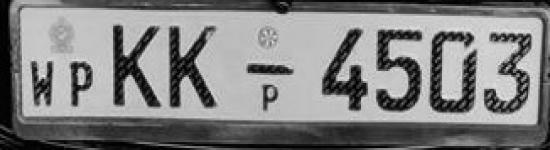-: (240, 58, 298, 82)
0: (426, 24, 482, 119)
3: (480, 23, 535, 117)
4: (318, 21, 374, 114)
5: (374, 23, 426, 117)
K: (166, 19, 228, 115), (107, 17, 166, 114)
P: (62, 56, 98, 109)
W: (28, 57, 61, 112)
